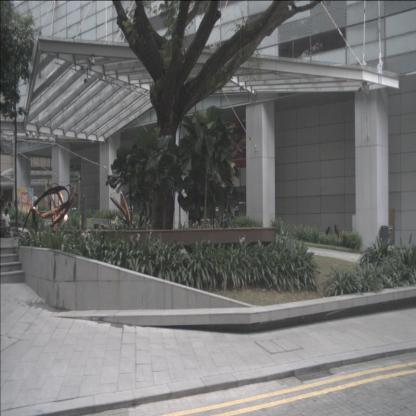human-pedestrian-adult: (2, 208, 13, 237), (6, 198, 14, 220), (0, 196, 6, 220), (333, 225, 339, 242), (325, 226, 330, 242)
